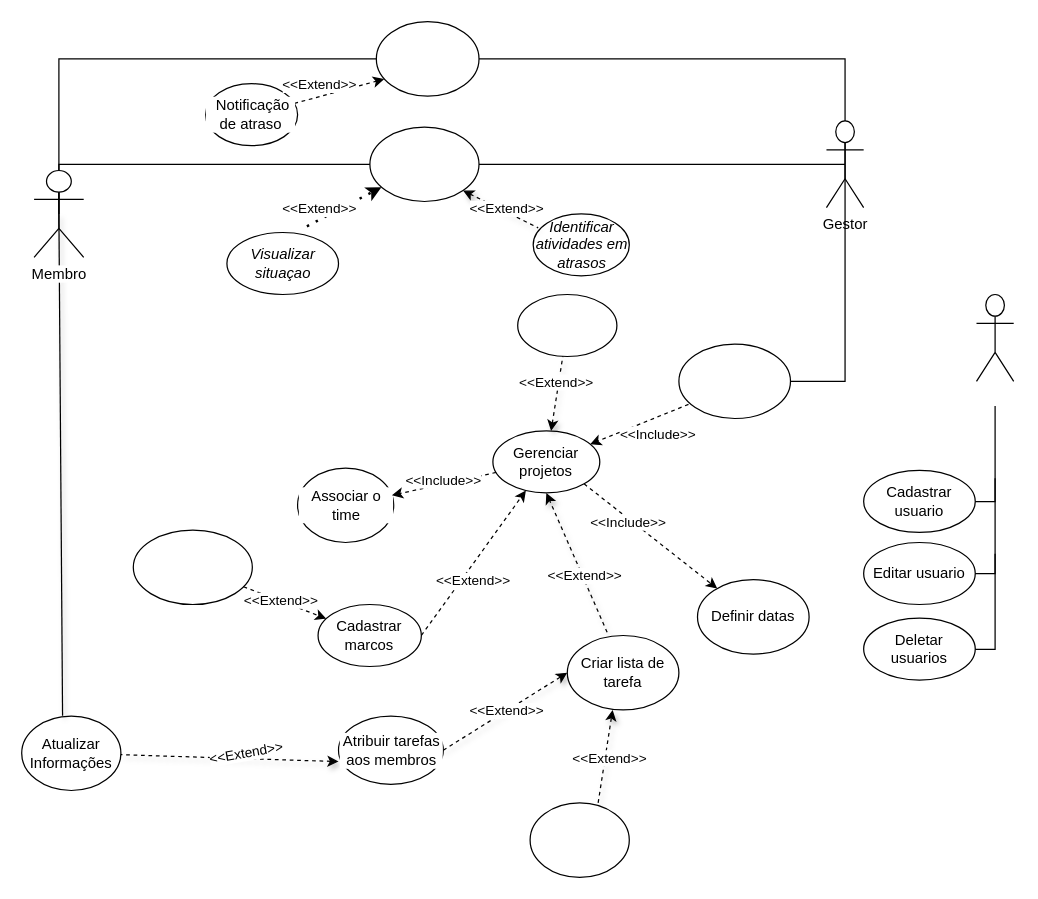
Image size: 1038x899. Some labels were removed from this diagram. The centre of each missing label's shape, as x and y in pixels:
"Admin" belongs at point (994, 337).
"Atribuir tarefas a cada etapa" belongs at point (192, 566).
"Cadastrar projeto" belongs at point (734, 380).
"Consultar cronogramas" belongs at point (427, 58).
"Gerenciar riscos" belongs at point (566, 324).
"Priorizar tarefas" belongs at point (579, 839).
"Visualizar Projetos" belongs at point (424, 164).
